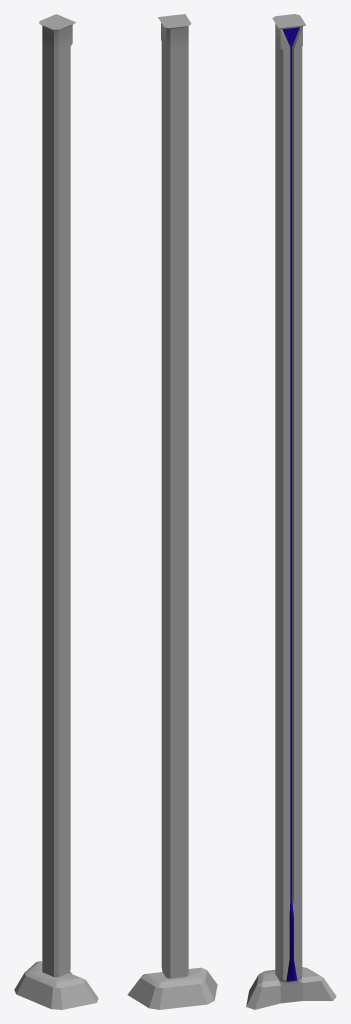
File: Geo_Pillar 1.fbx
The picture shows the model from 3 angles, left to right: view 1: azimuth 90°, elevation 25°; view 2: azimuth 150°, elevation 25°; view 3: azimuth 330°, elevation 25°; orthographic projection.
Parts seen in each view (by area): view 1: Geo_Pillar_1; view 2: Geo_Pillar_1; view 3: Geo_Pillar_1.
Boxes of the visible parts, x1,y1,x2,y2 form: Geo_Pillar_1: (14, 14, 98, 1009); Geo_Pillar_1: (127, 14, 217, 1009); Geo_Pillar_1: (246, 14, 336, 1009).
Bounding box in the file's own units: 366 × 4646 × 366.
